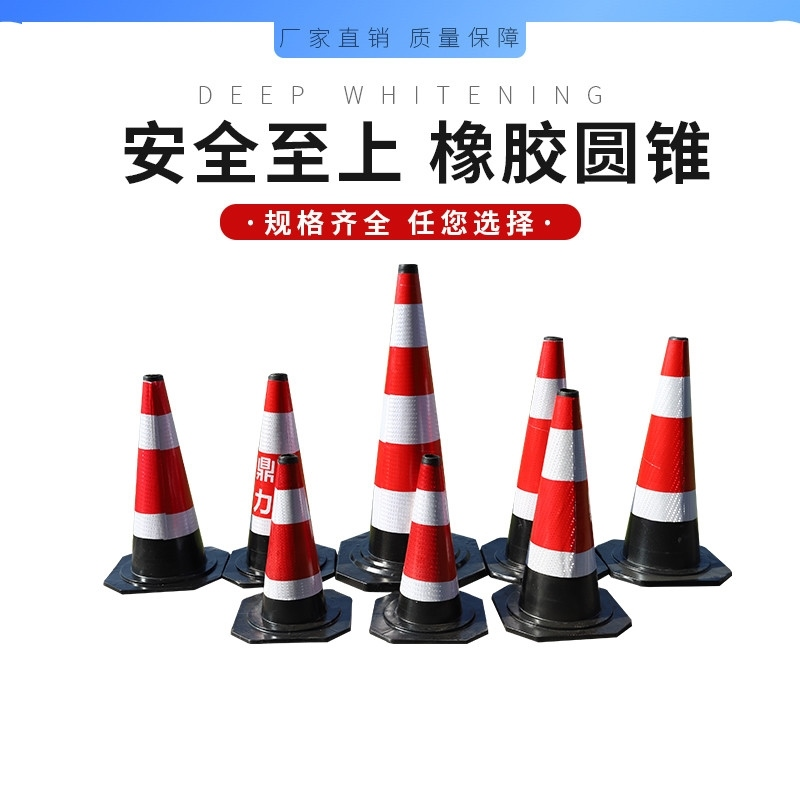traffic_cone: (88, 260, 730, 646)
